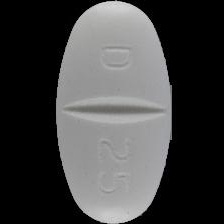42292-025: (0, 0, 224, 224)
